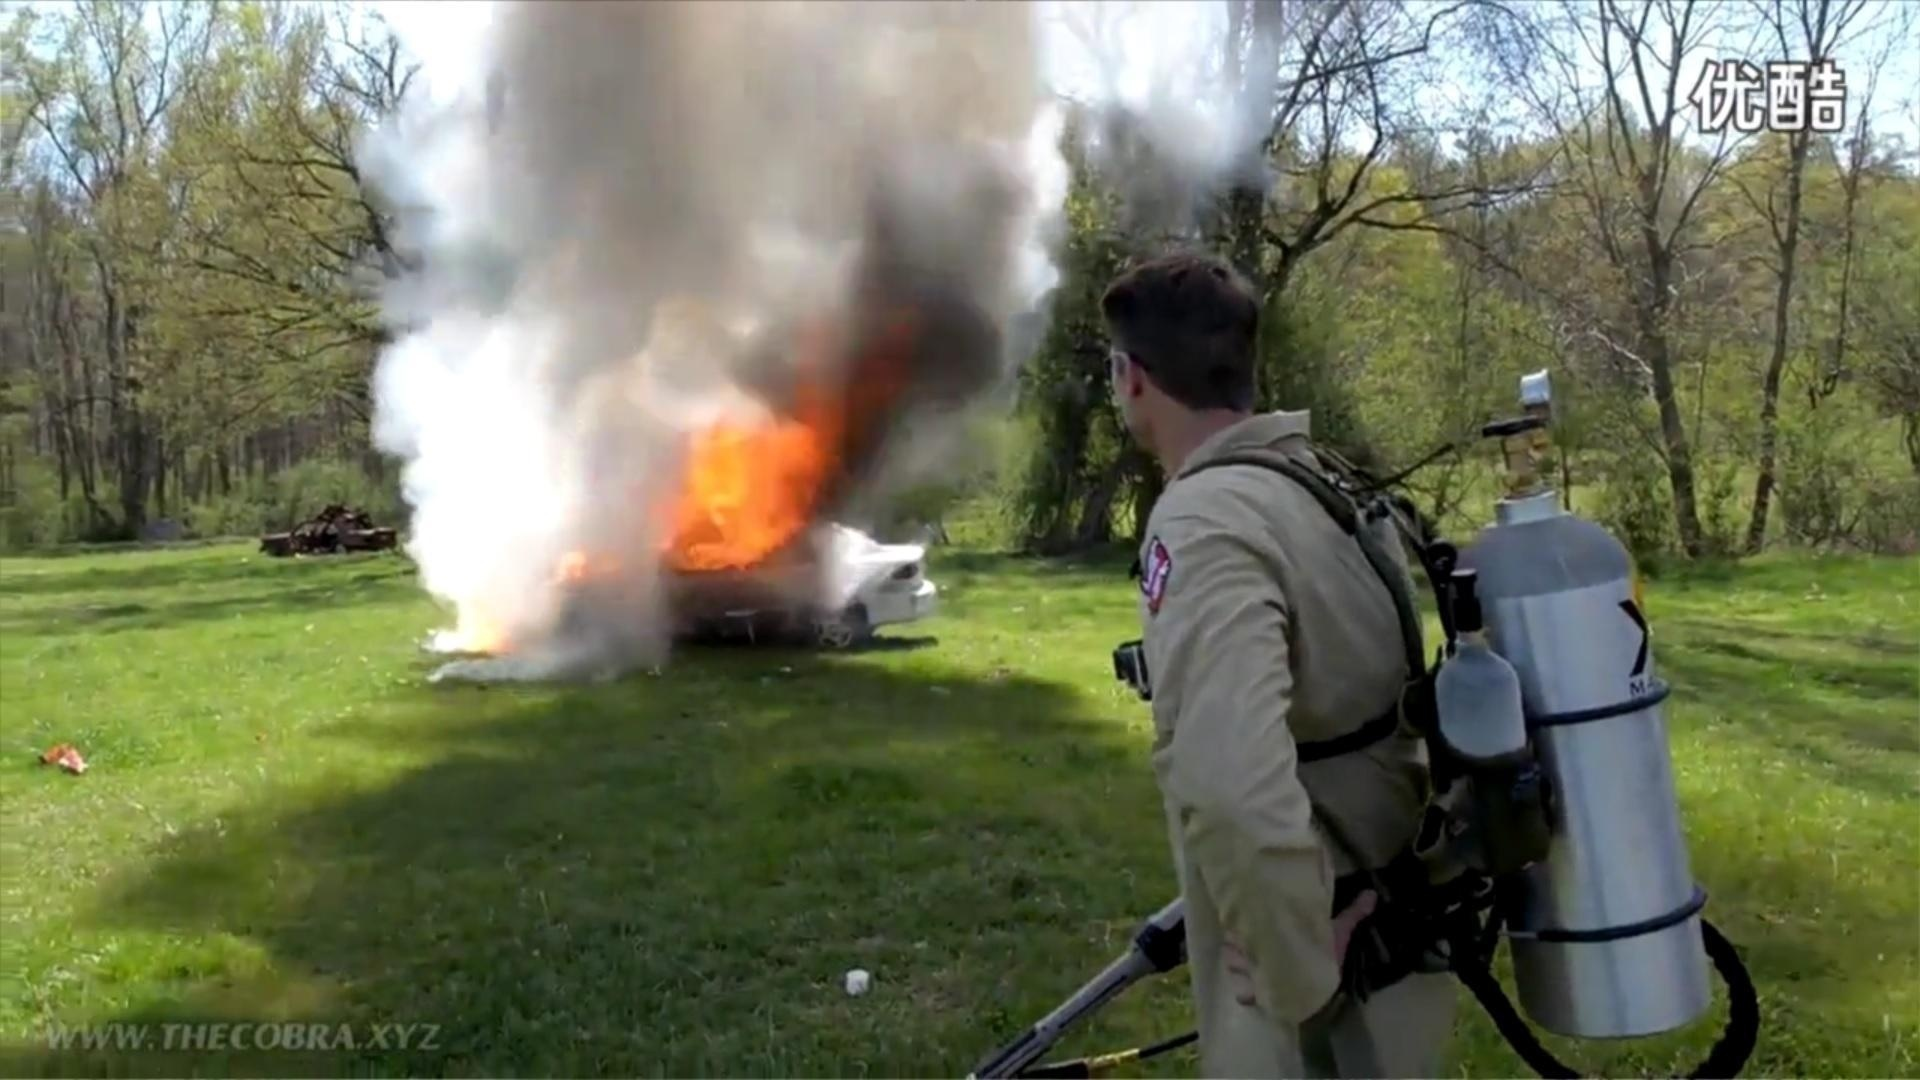fire: (650, 396, 843, 585)
